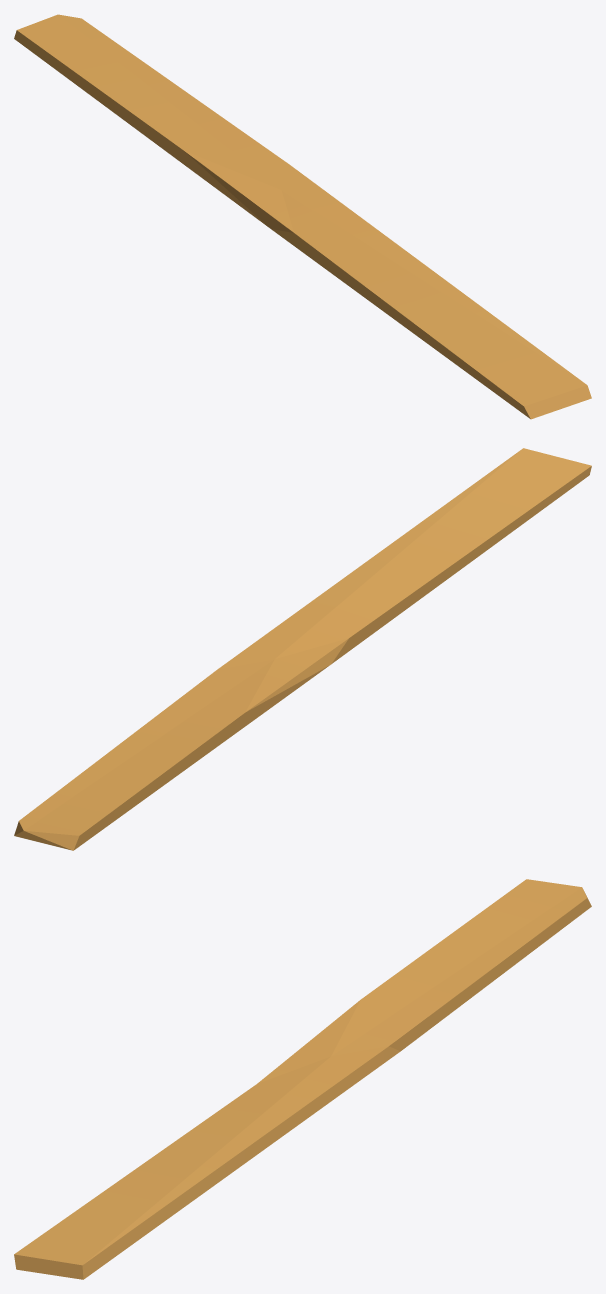
Rendered from Big Plank of wood 1.fbx.
3 views of the same model, one above another, from view 1: azimuth 30°, elevation 25°; view 2: azimuth 150°, elevation 25°; view 3: azimuth 330°, elevation 25° (orthographic).
Visible parts, largest first — view 1: Big Plank of wood 1; view 2: Big Plank of wood 1; view 3: Big Plank of wood 1.
Boxes of the visible parts, <box> form: Big Plank of wood 1: <box>14,14,591,419</box>; Big Plank of wood 1: <box>14,448,591,850</box>; Big Plank of wood 1: <box>14,879,591,1279</box>.
Bounding box in the file's own units: 34.28 × 7.65 × 440.
